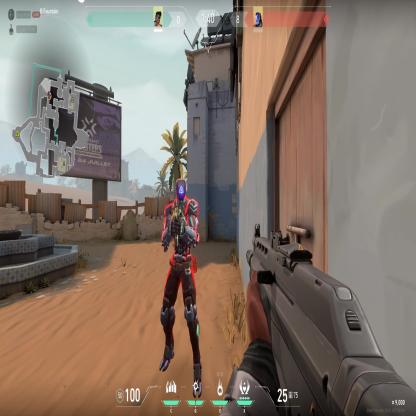enemy: (158, 177, 204, 398)
